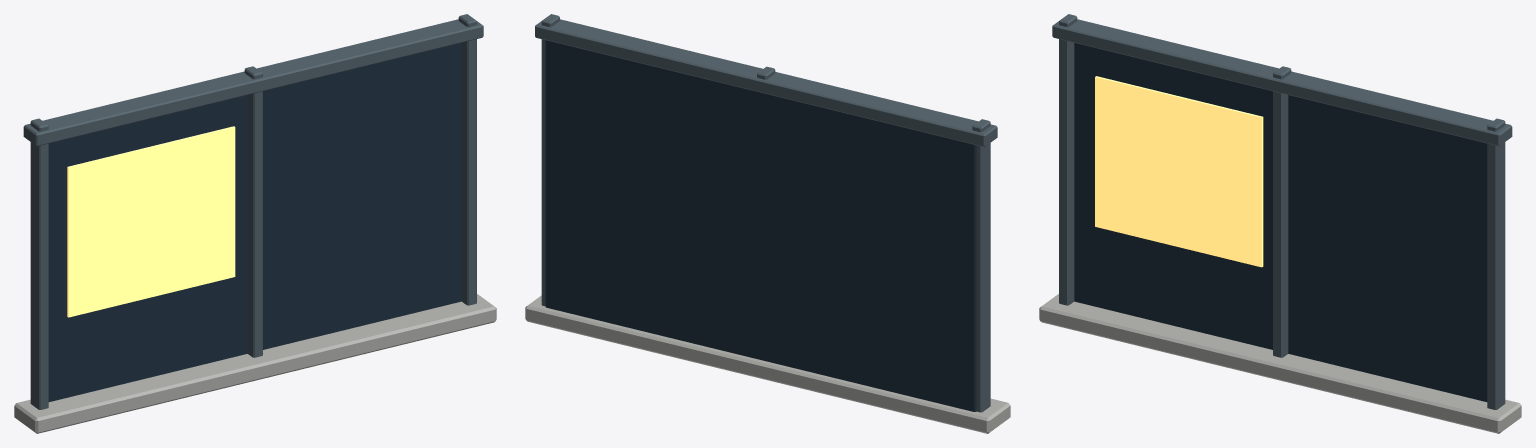
The model's file is BH_Window_Large.glb.
3 views of the same model, side by side, from view 1: azimuth 30°, elevation 25°; view 2: azimuth 150°, elevation 25°; view 3: azimuth 330°, elevation 25° (orthographic).
Parts seen in each view (by area): view 1: BH_Window_Large_RenderMesh, BH_Window_Large_LightMesh; view 2: BH_Window_Large_RenderMesh; view 3: BH_Window_Large_RenderMesh, BH_Window_Large_LightMesh.
Boxes of the visible parts, x1=… form: BH_Window_Large_RenderMesh: x1=14, y1=14, x2=496, y2=433; BH_Window_Large_LightMesh: x1=67, y1=126, x2=235, y2=317; BH_Window_Large_RenderMesh: x1=525, y1=14, x2=1010, y2=433; BH_Window_Large_RenderMesh: x1=1039, y1=14, x2=1521, y2=433; BH_Window_Large_LightMesh: x1=1095, y1=76, x2=1263, y2=267.
Size of what is drawn, in the model's own units: 3.02 by 1.87 by 0.26.
